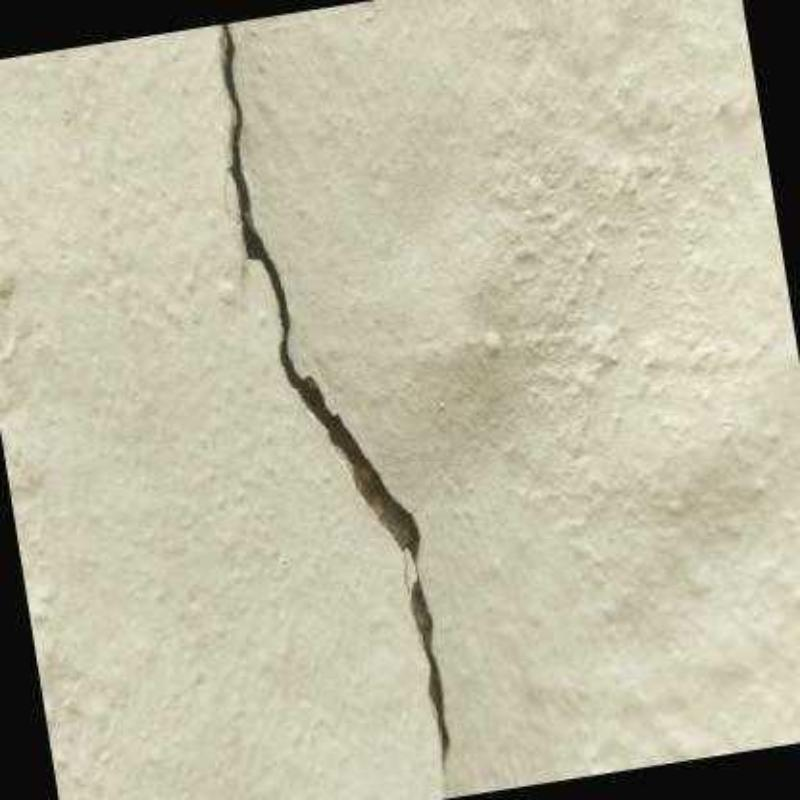pothole: (217, 22, 454, 782)
